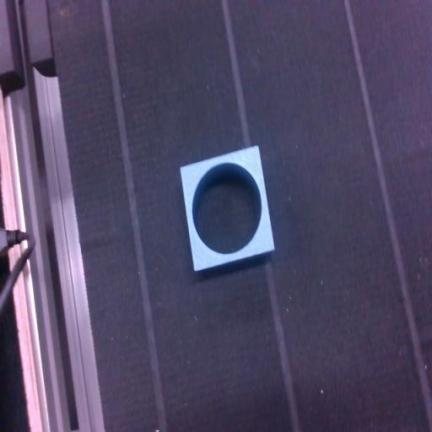square: (181, 146, 274, 270)
